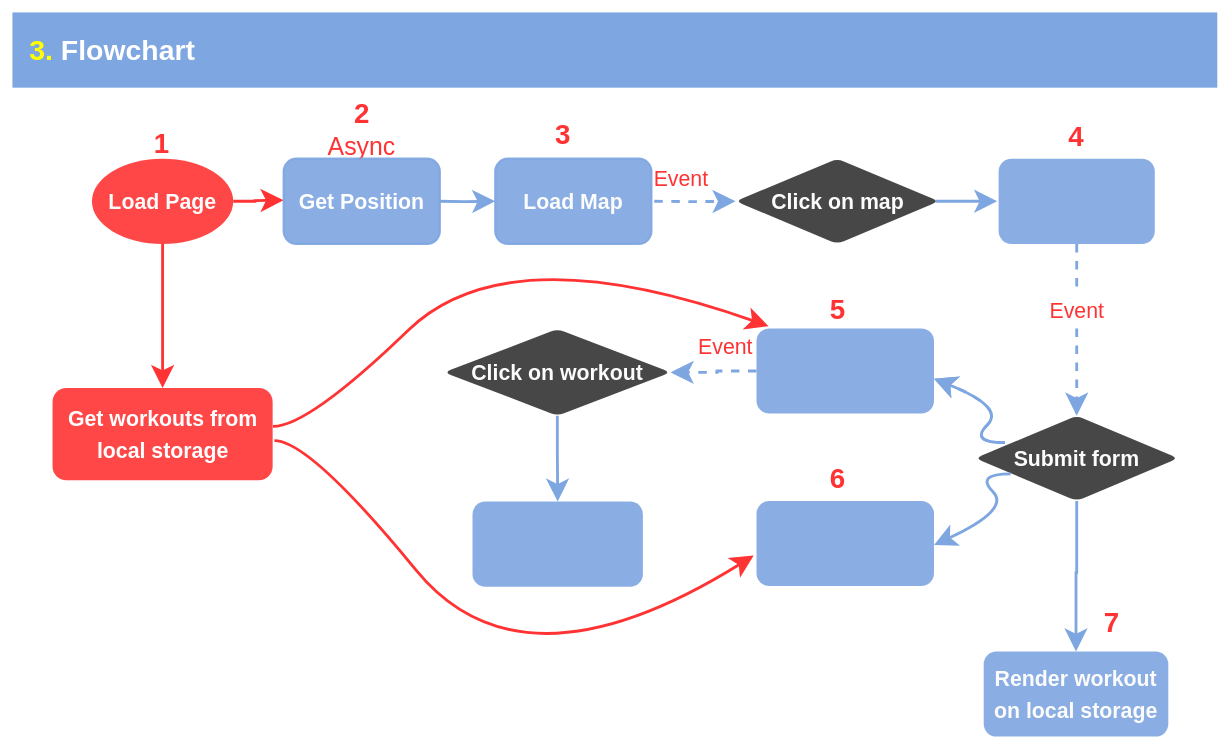
The diagram is 1229 pixels wide and 748 high, and some of its shapes have lost their labels. The shapes that lost their labels are listed below. From the top down, each one's box as (x1, y1, x2, y2) in pixels, then its label:
(998, 158, 1154, 244): Display form
(756, 328, 934, 413): Render workout in list
(472, 501, 643, 586): Move to workout on map
(756, 501, 934, 586): Render workout on map
